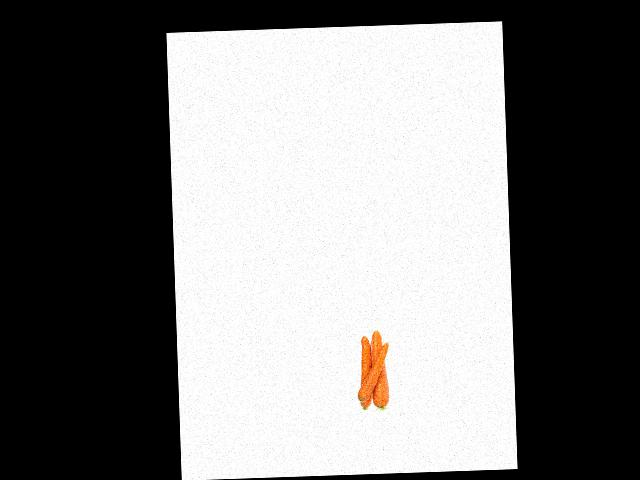carrot: (372, 327, 389, 410)
